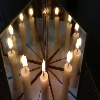fire: (42, 60, 46, 74)
